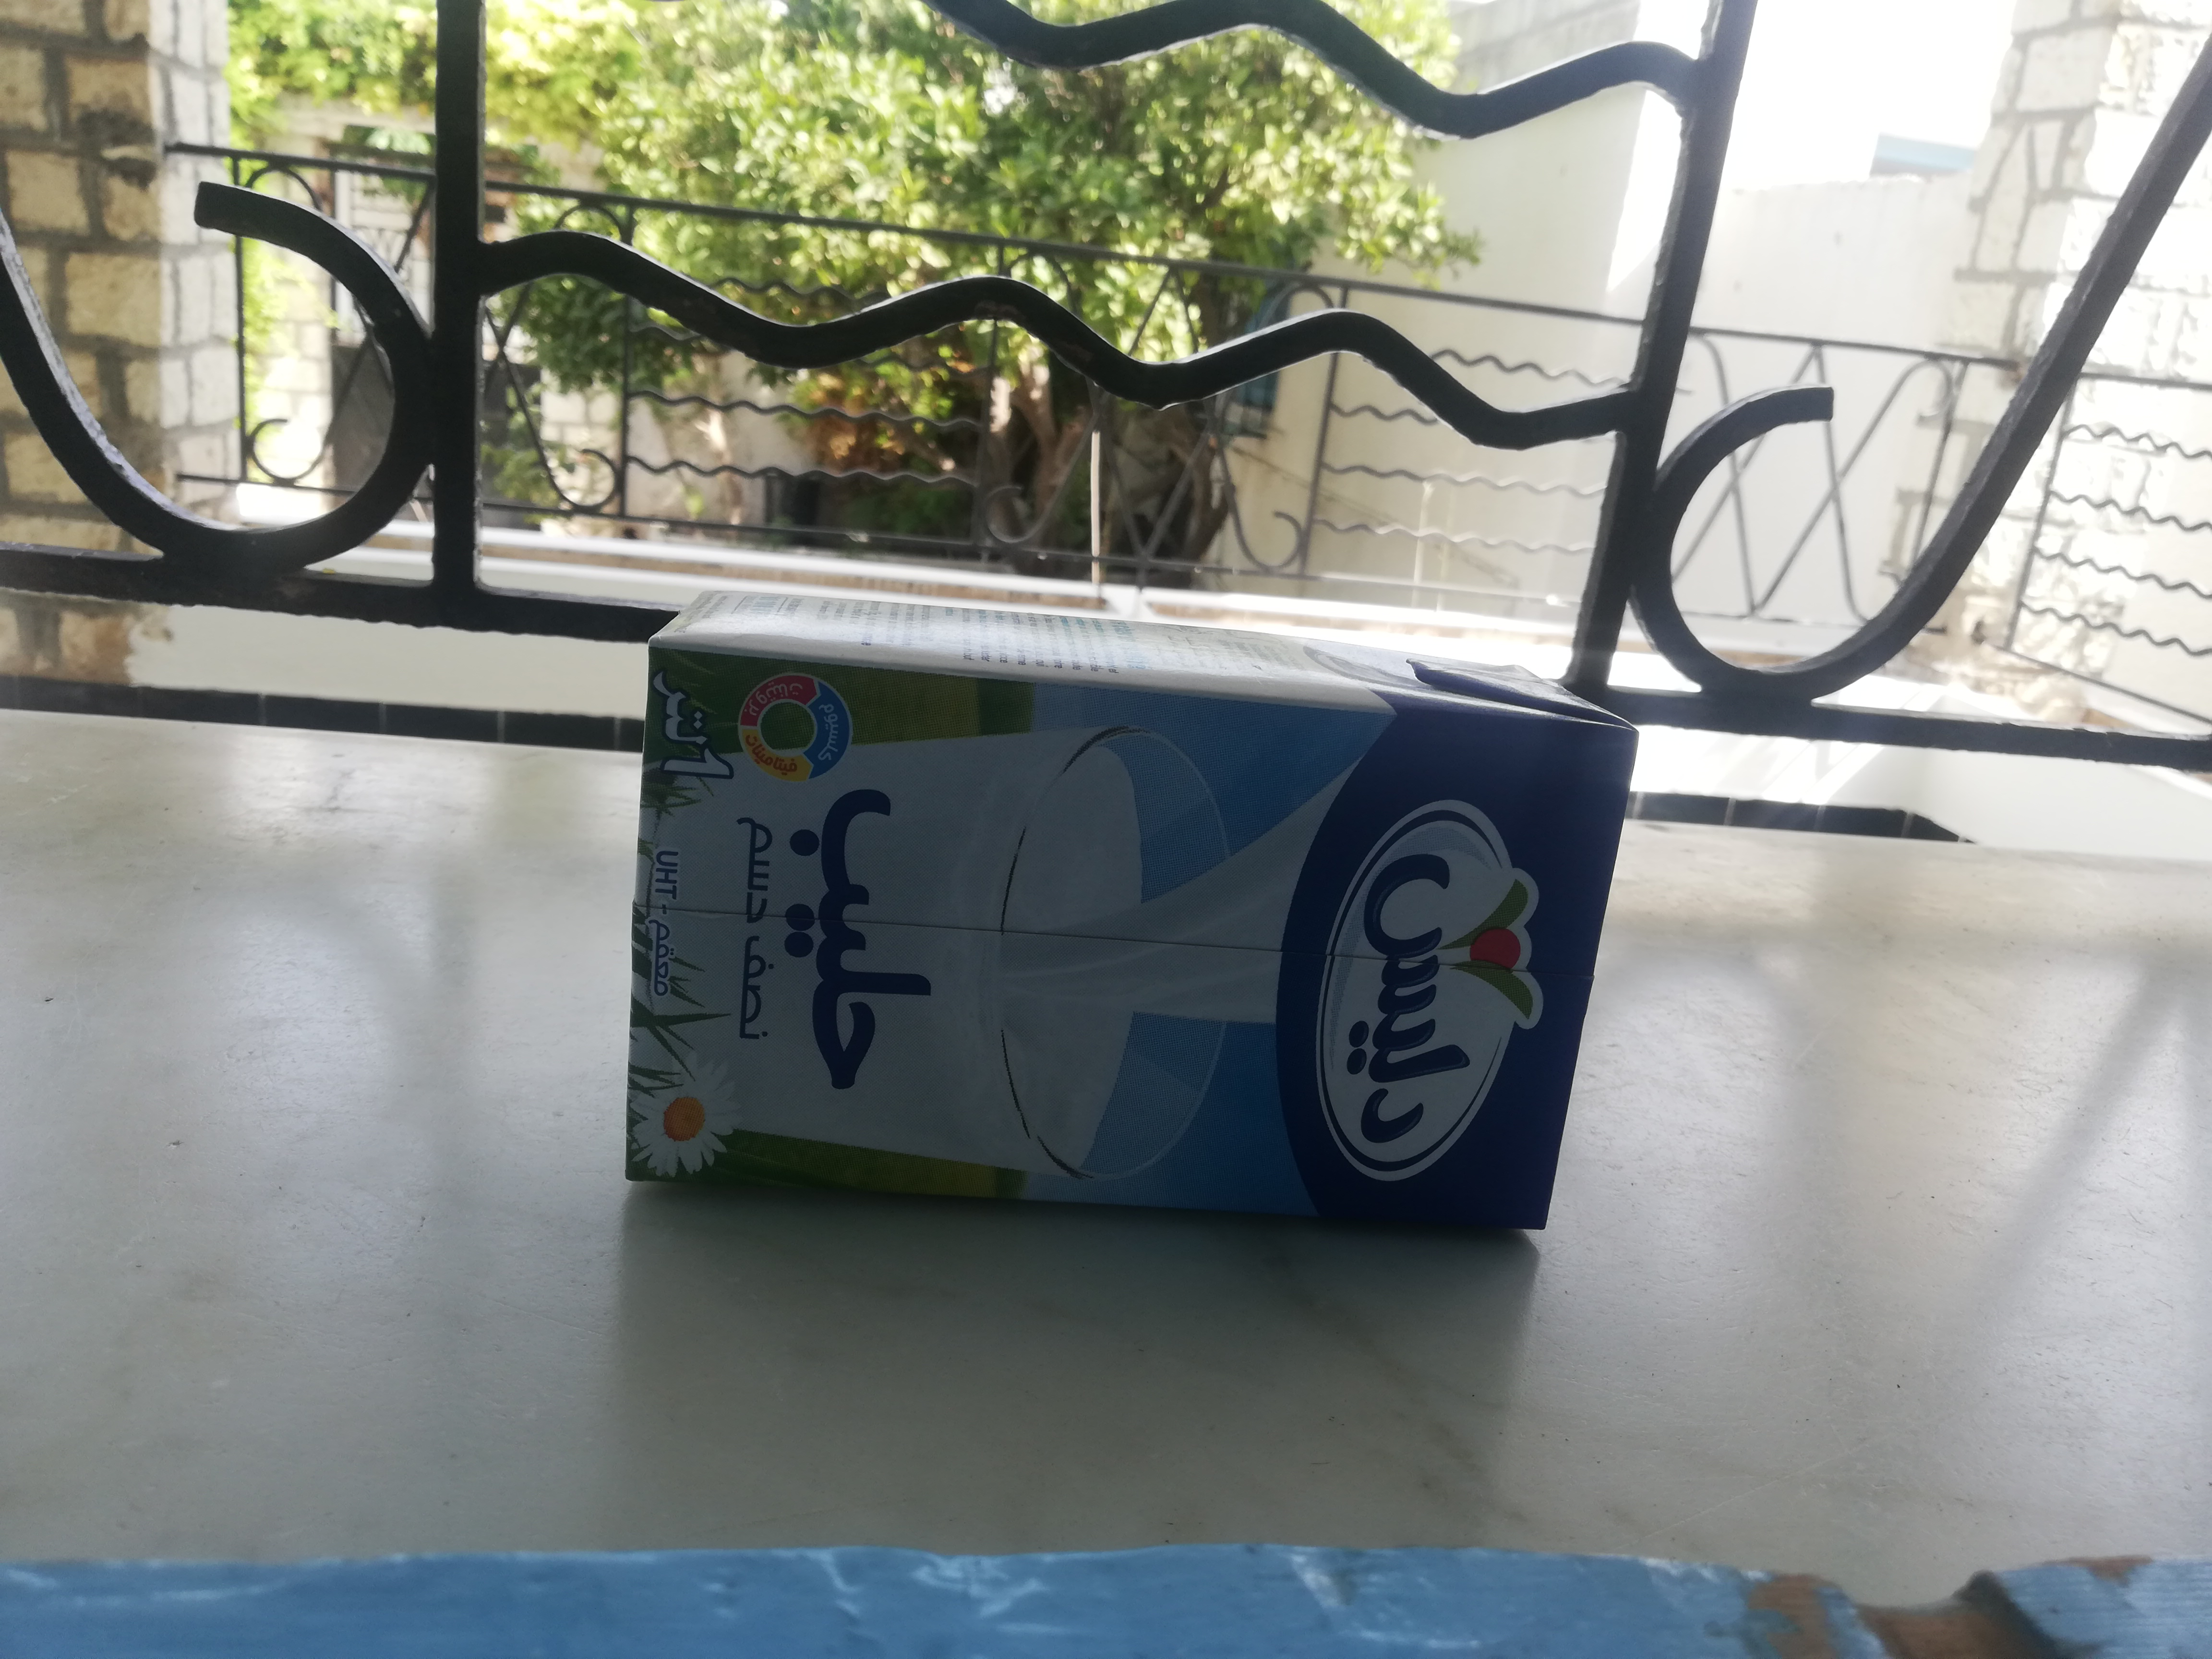Lait delice: (620, 589, 1639, 1241)
